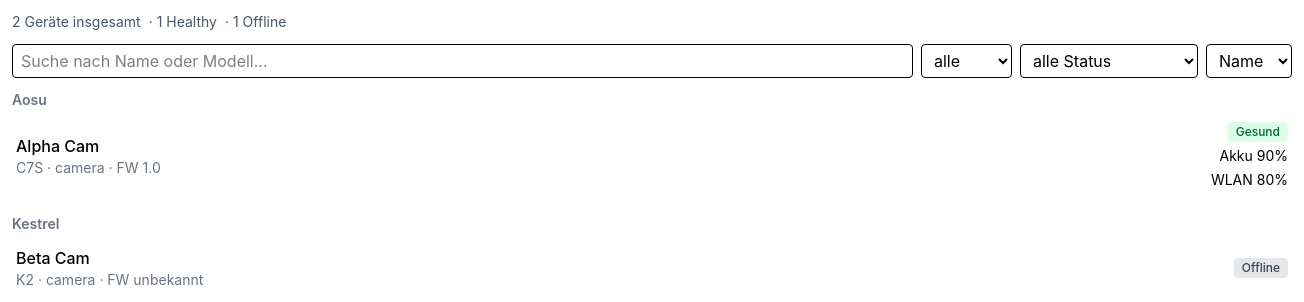
Test: DeviceInventory › filters by search text
In the field named "Geräte durchsuchen": (462, 61) top-left (12, 44), bottom-right (913, 78), type "Beta"
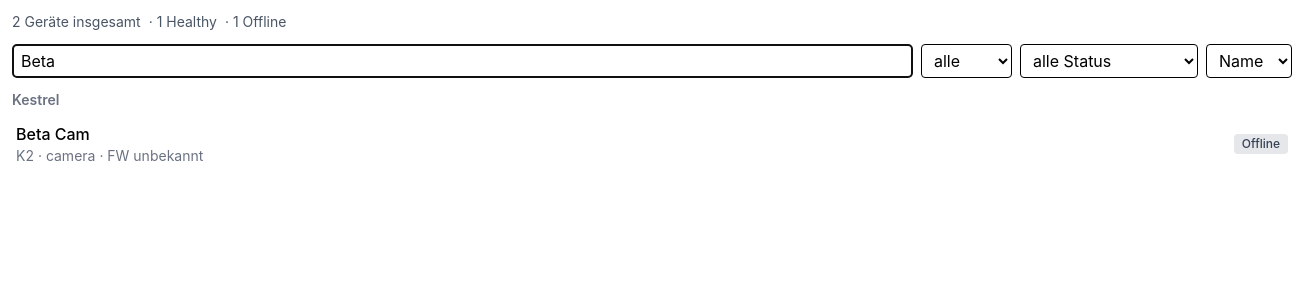
Expected: the text "Beta Cam" is shown, top-left (16, 124), bottom-right (90, 144)
Expected: the button "Alpha Cam" is gone
